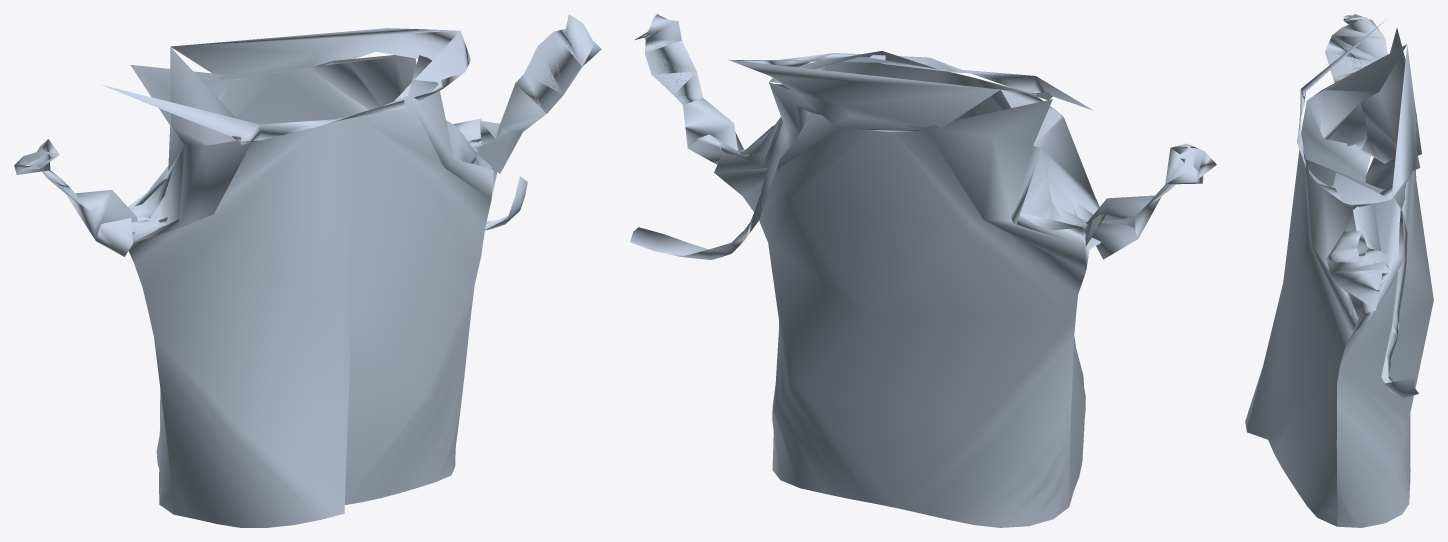
The model's file is frame_039.glb.
The picture shows the model from 3 angles, left to right: view 1: azimuth 30°, elevation 25°; view 2: azimuth 150°, elevation 25°; view 3: azimuth 270°, elevation 25°; orthographic projection. The views are drawn at different scales.
Parts seen in each view (by area): view 1: panel.front, panel.neck_band, panel.back, panel.sleeve.right, panel.sleeve.left; view 2: panel.back, panel.neck_band, panel.front, panel.sleeve.right, panel.sleeve.left; view 3: panel.front, panel.back, panel.neck_band, panel.sleeve.right, panel.sleeve.left.
Part boxes in pixels (x1,y1,x2,y2): panel.front: (128, 47, 493, 527); panel.neck_band: (101, 28, 527, 230); panel.back: (128, 56, 497, 514); panel.sleeve.right: (476, 14, 601, 173); panel.sleeve.left: (14, 139, 137, 256); panel.back: (714, 84, 1087, 527); panel.neck_band: (630, 53, 1093, 259); panel.front: (769, 51, 1101, 505); panel.sleeve.right: (634, 14, 743, 164); panel.sleeve.left: (1085, 143, 1216, 259); panel.front: (1245, 44, 1406, 526); panel.back: (1336, 28, 1433, 527); panel.neck_band: (1296, 19, 1420, 398); panel.sleeve.right: (1326, 231, 1389, 318); panel.sleeve.left: (1325, 14, 1387, 144).
Size of the model in its own units: 1.04 by 0.7795 by 0.3496.
